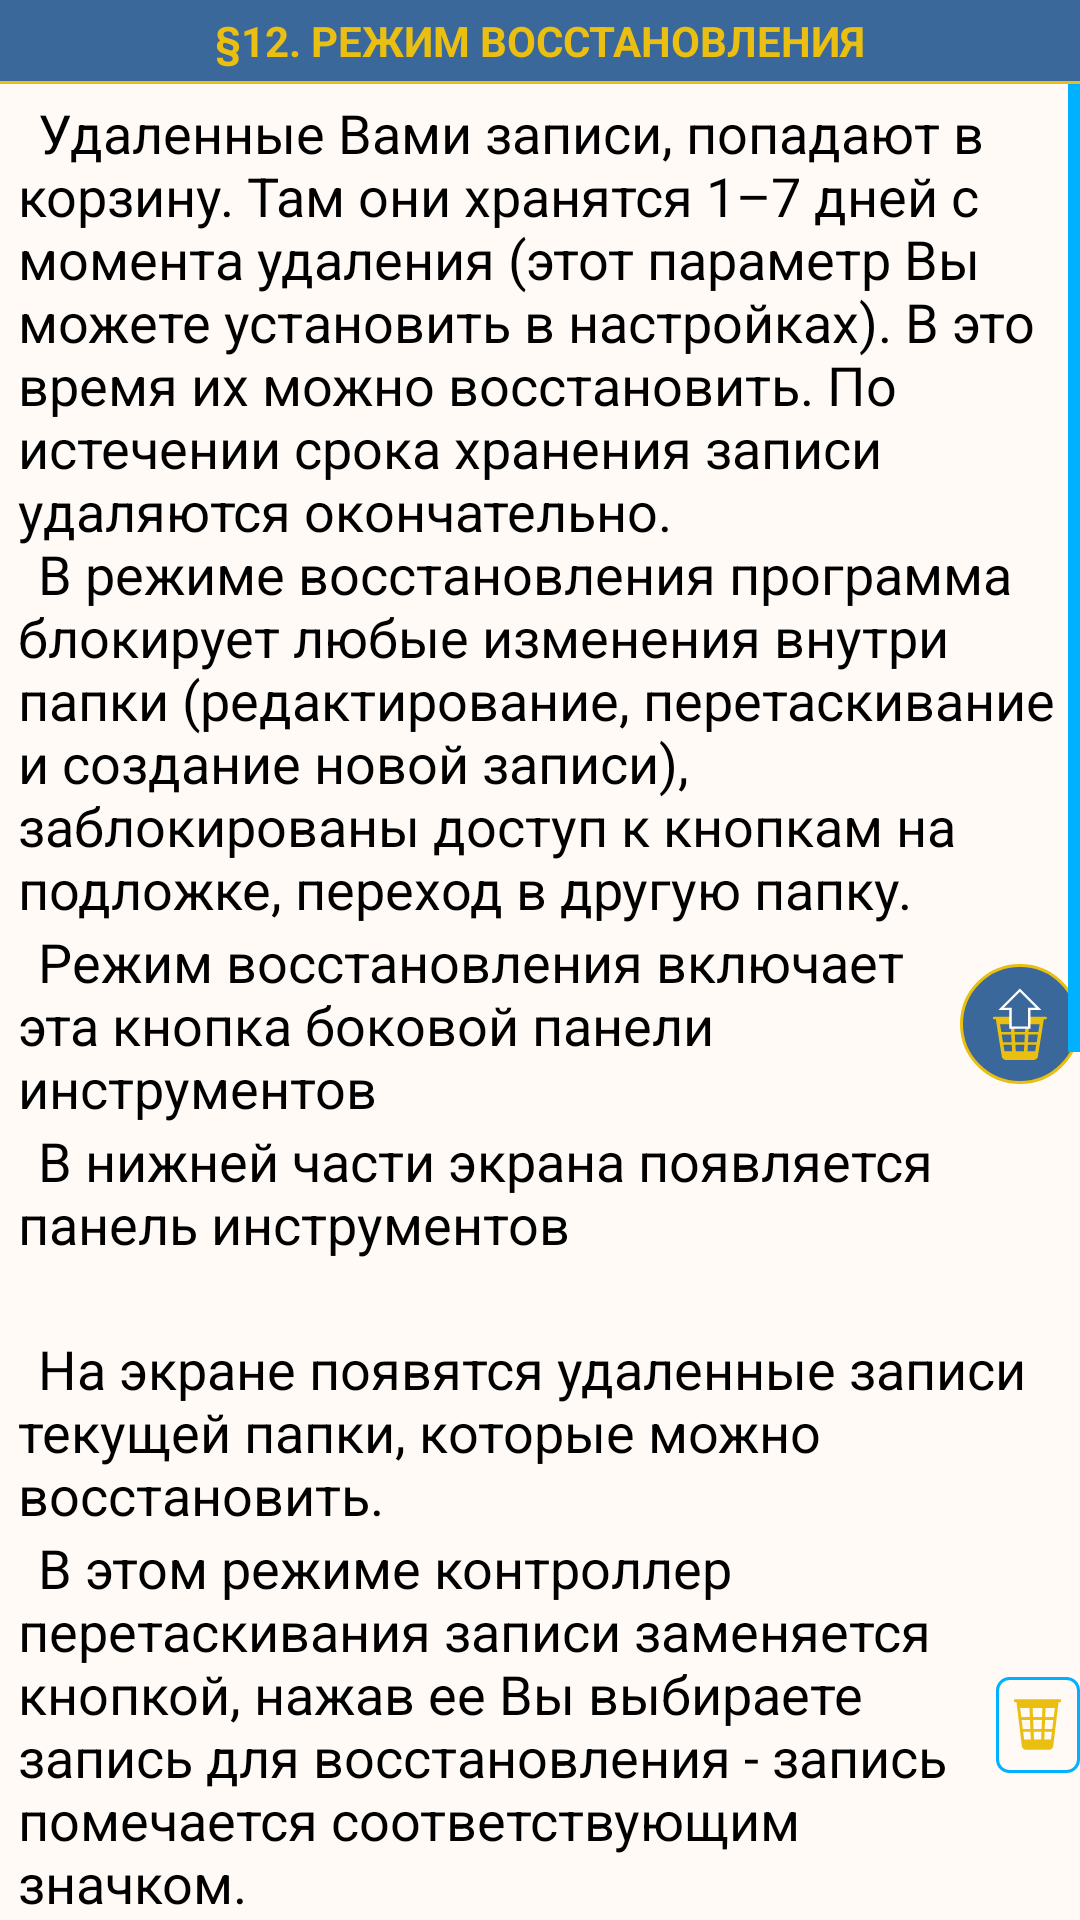

Screen size 1080x1920. Icon name, then its box in pixels as detection(x1, y1, x2, y2):
basket: detection(996, 1677, 1080, 1773)
